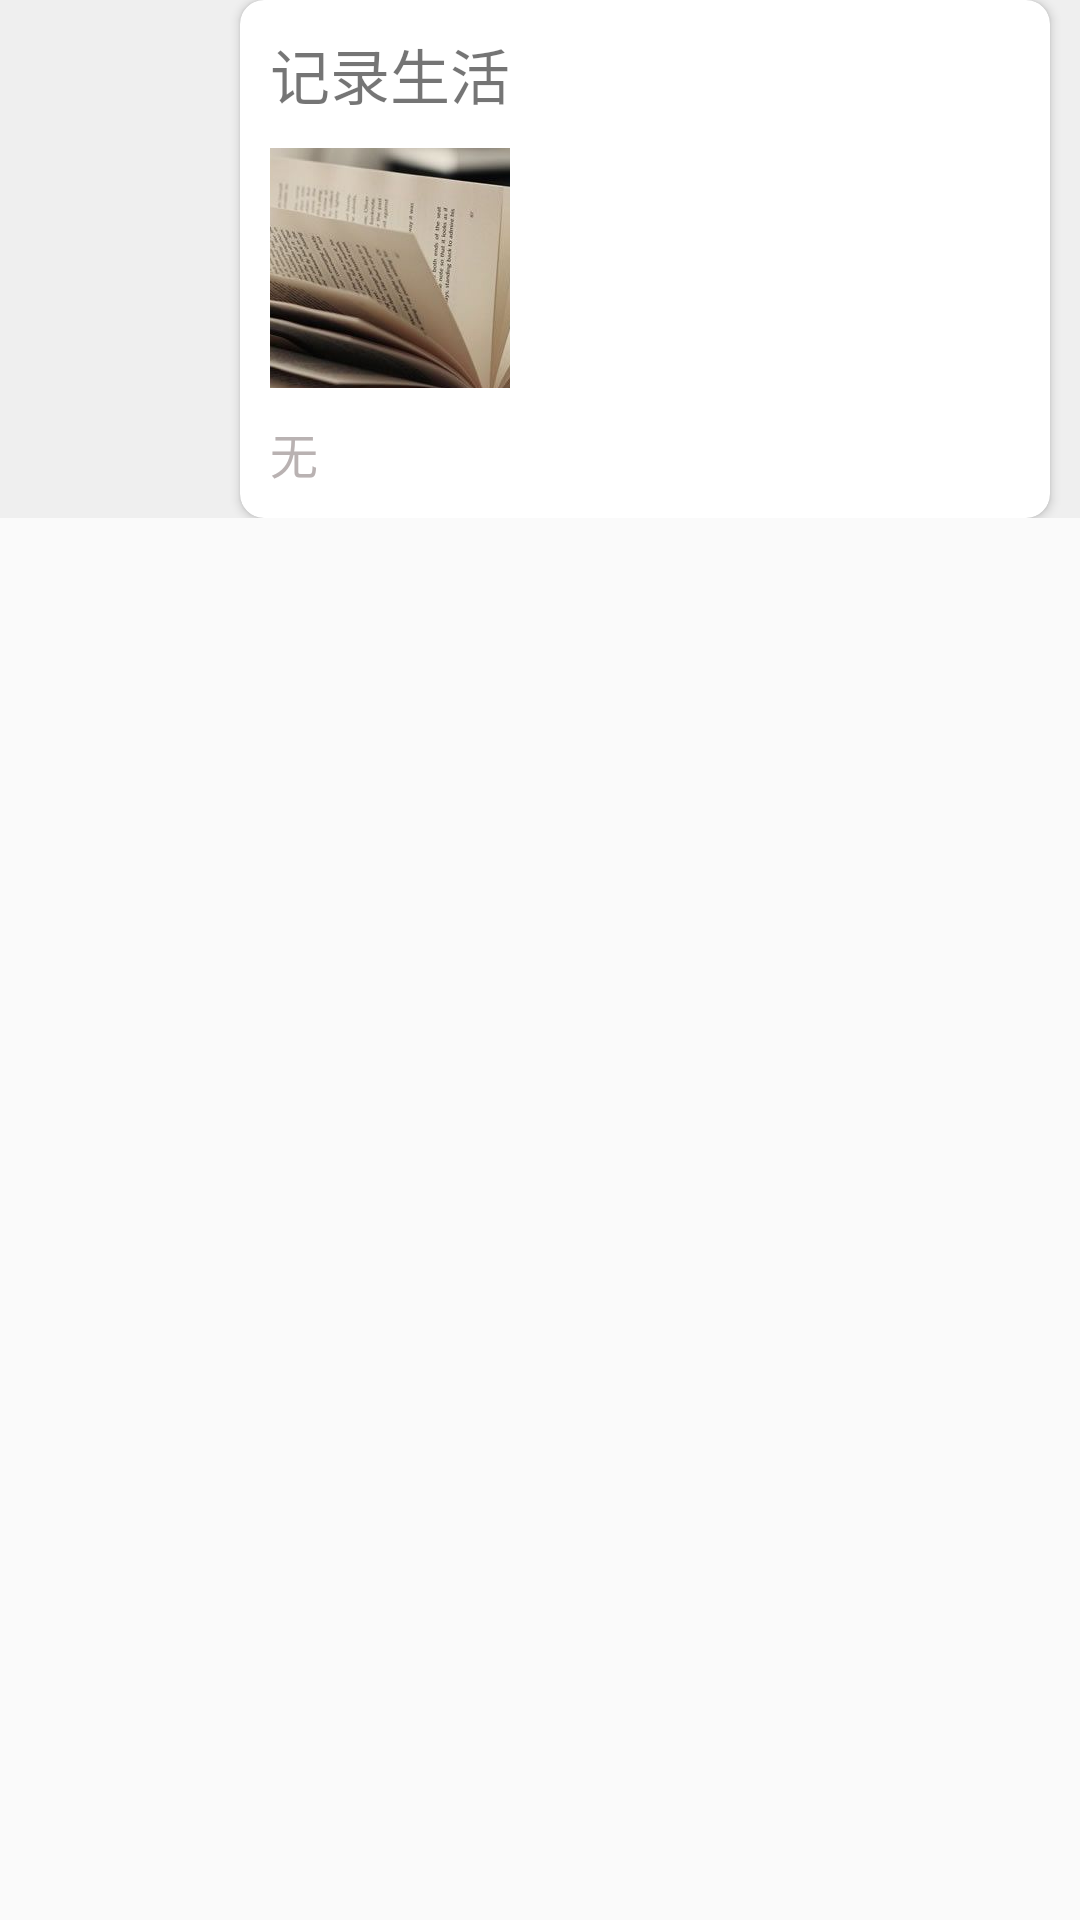

Icon bounding boxes for this 1080×1920 phone screenshot, format (x1, y1, x2, y2):
login book: (270, 148, 510, 388)
